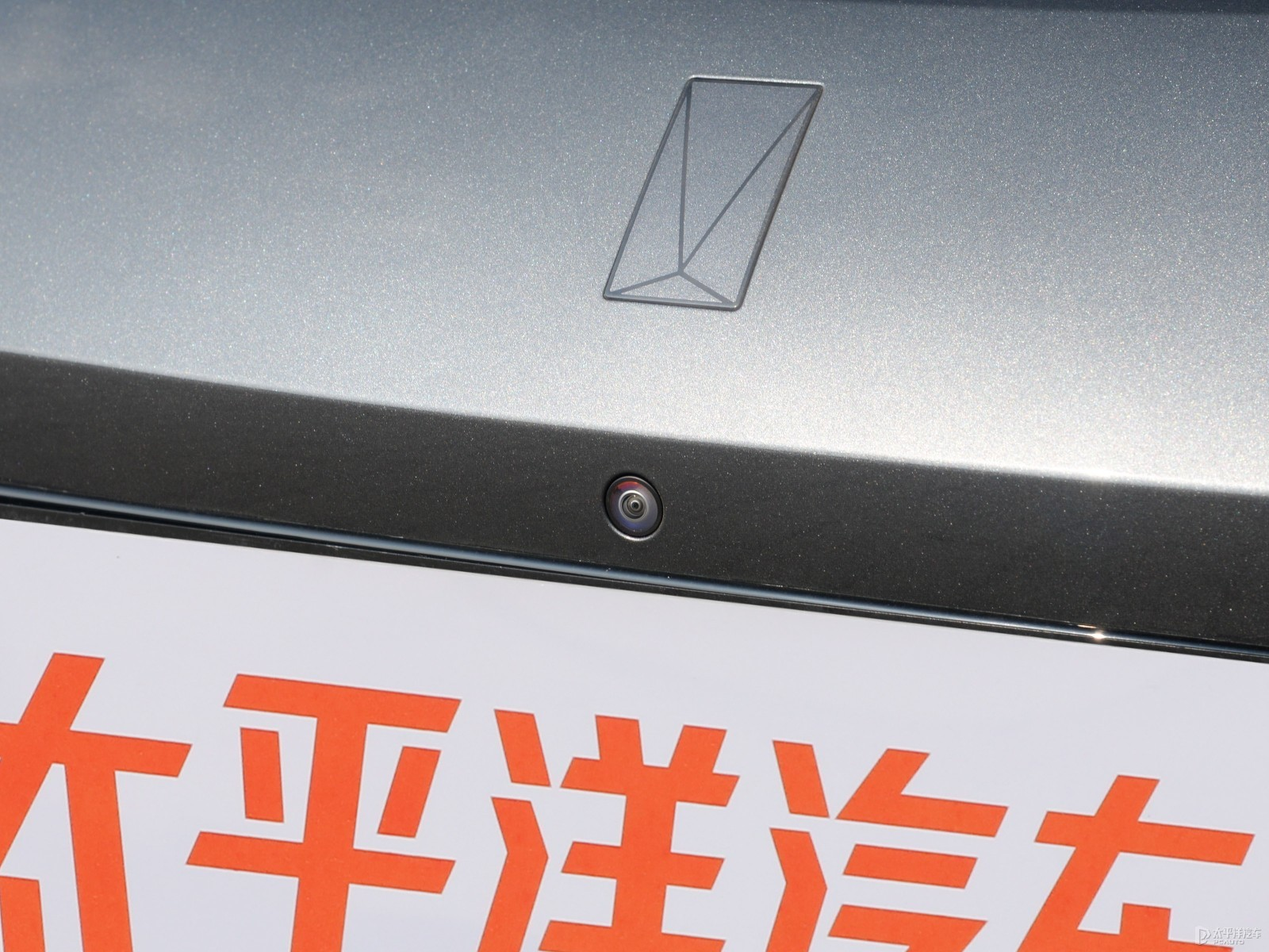AVATR: (603, 77, 823, 310)
